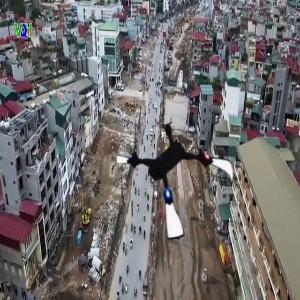drone: (111, 116, 239, 244)
